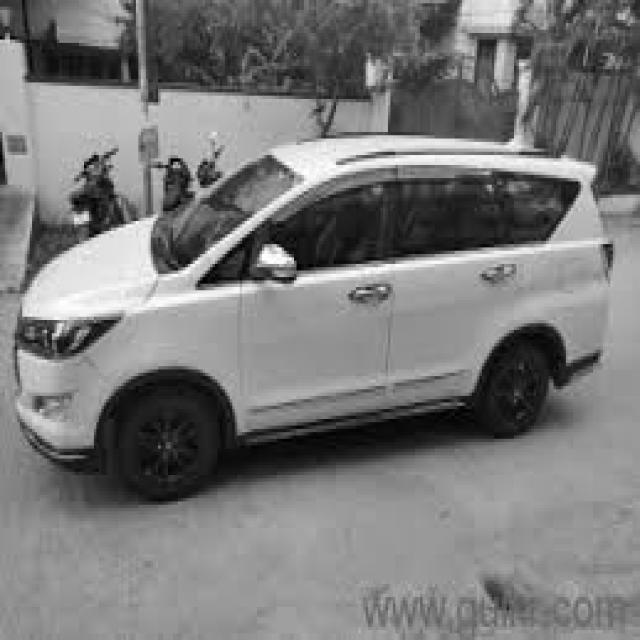Car: (20, 140, 614, 496)
